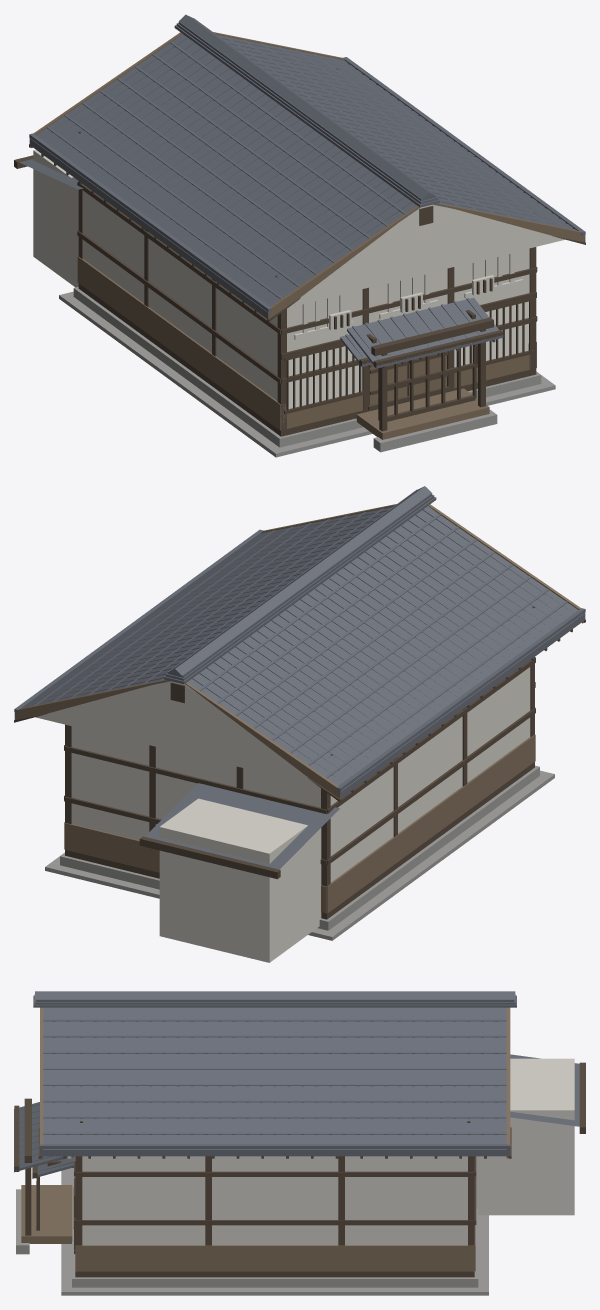
The model's file is family_standard_machiya_03.glb.
3 views of the same model, one above another, from view 1: azimuth 30°, elevation 25°; view 2: azimuth 150°, elevation 25°; view 3: azimuth 270°, elevation 25° (orthographic). The views are drawn at different scales.
Parts seen in each view (by area): view 1: family_standard_machiya_03; view 2: family_standard_machiya_03; view 3: family_standard_machiya_03.
Boxes of the visible parts, x1,y1,x2,y2 form: family_standard_machiya_03: [14, 14, 585, 457]; family_standard_machiya_03: [14, 486, 585, 962]; family_standard_machiya_03: [14, 991, 585, 1295].
Bounding box in the file's own units: 7.96 × 5.76 × 12.61.
